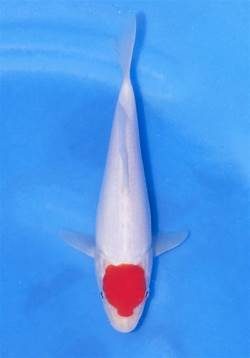sun: (59, 12, 190, 334)
